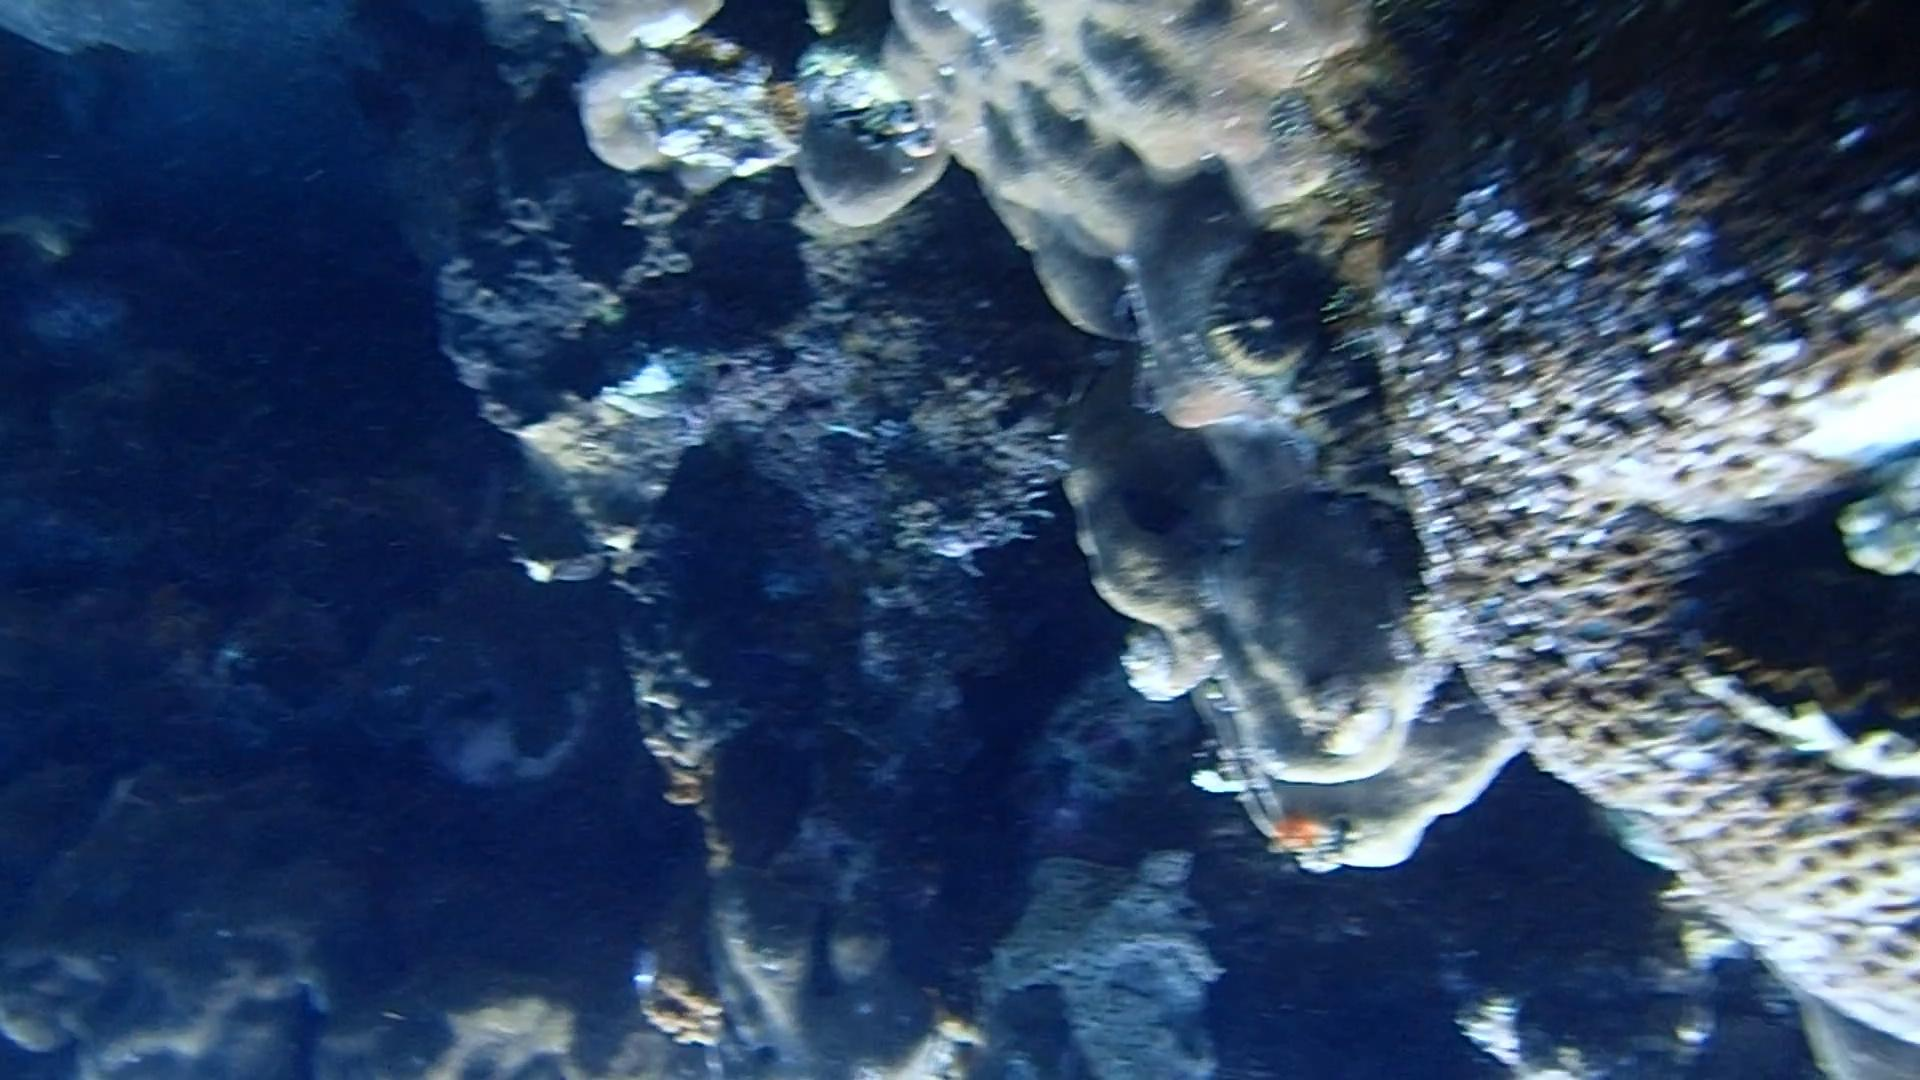Dark Fish: (981, 361, 1081, 440), (1114, 481, 1197, 556)
